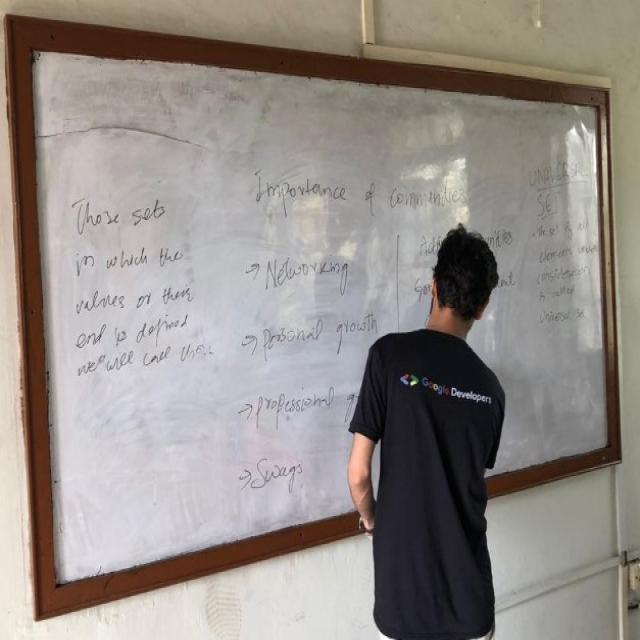Instructor: (358, 204, 514, 640)
White-board: (22, 39, 619, 608)
